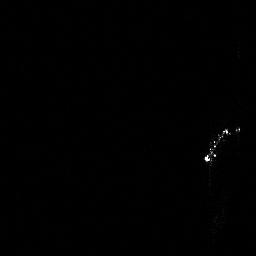ship: (203, 123, 244, 163)
